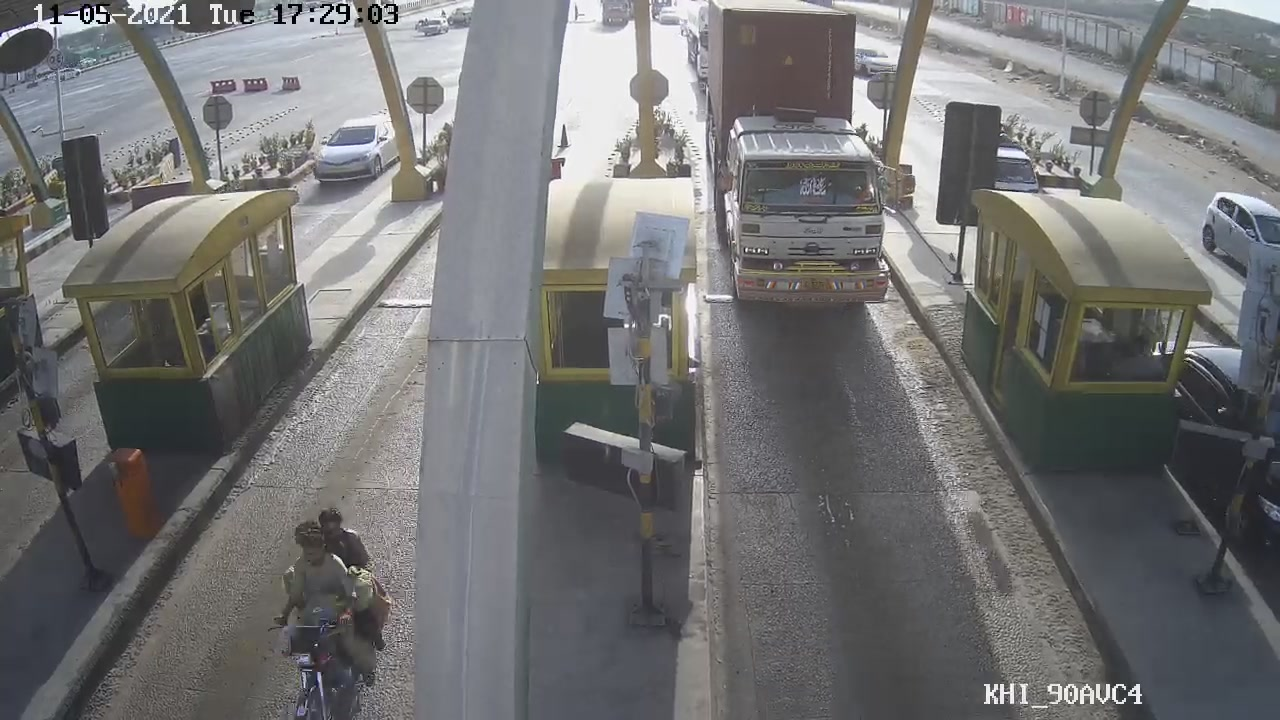F6: (687, 5, 906, 321)
